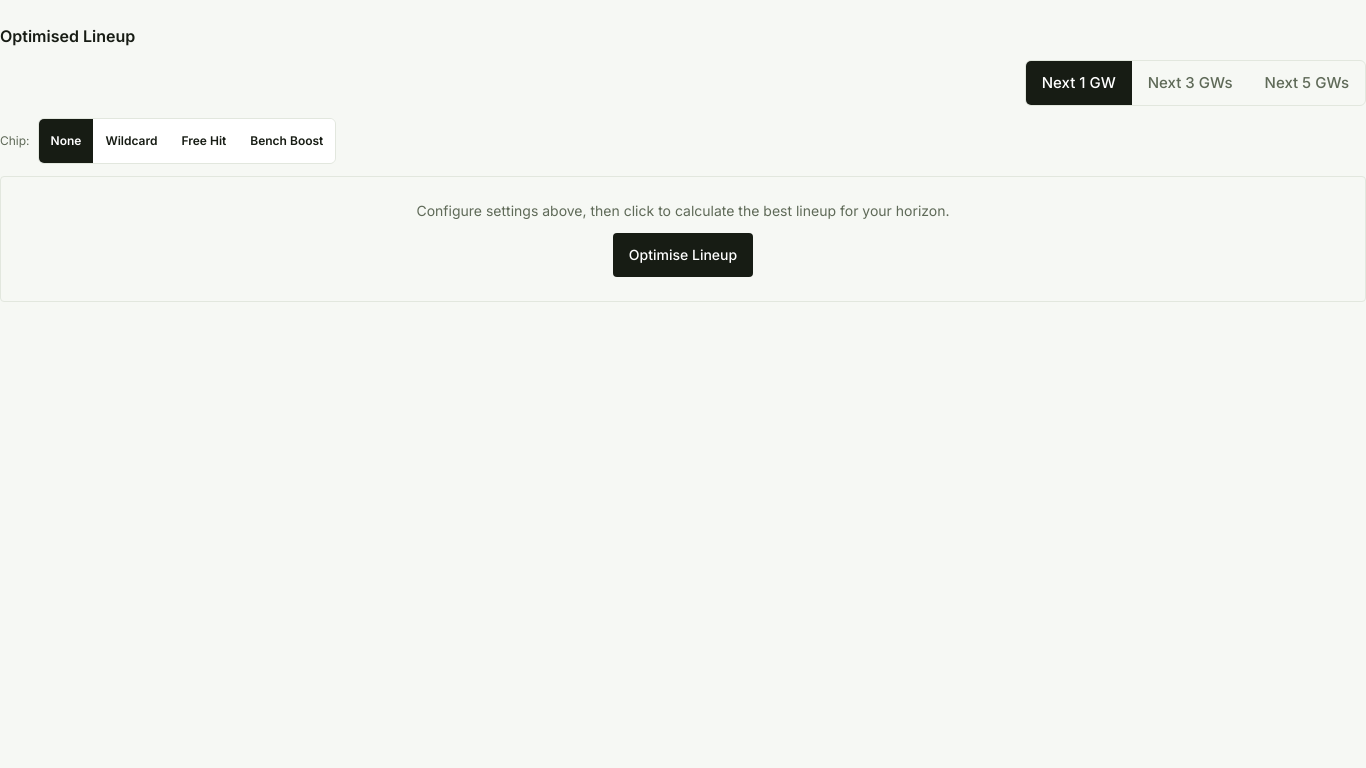
Test case: Phase 44: OptimiserPanel (comparison table) › CMP-01 comparison table renders › changed starter rows have border-l-2 + border-l-positive classes and a delta pill
What coordinates should you click on to do the following:
click the button with test id "optimise-button"
I would click on:
 (683, 255)
Its box is x1=613 y1=233 x2=753 y2=277.
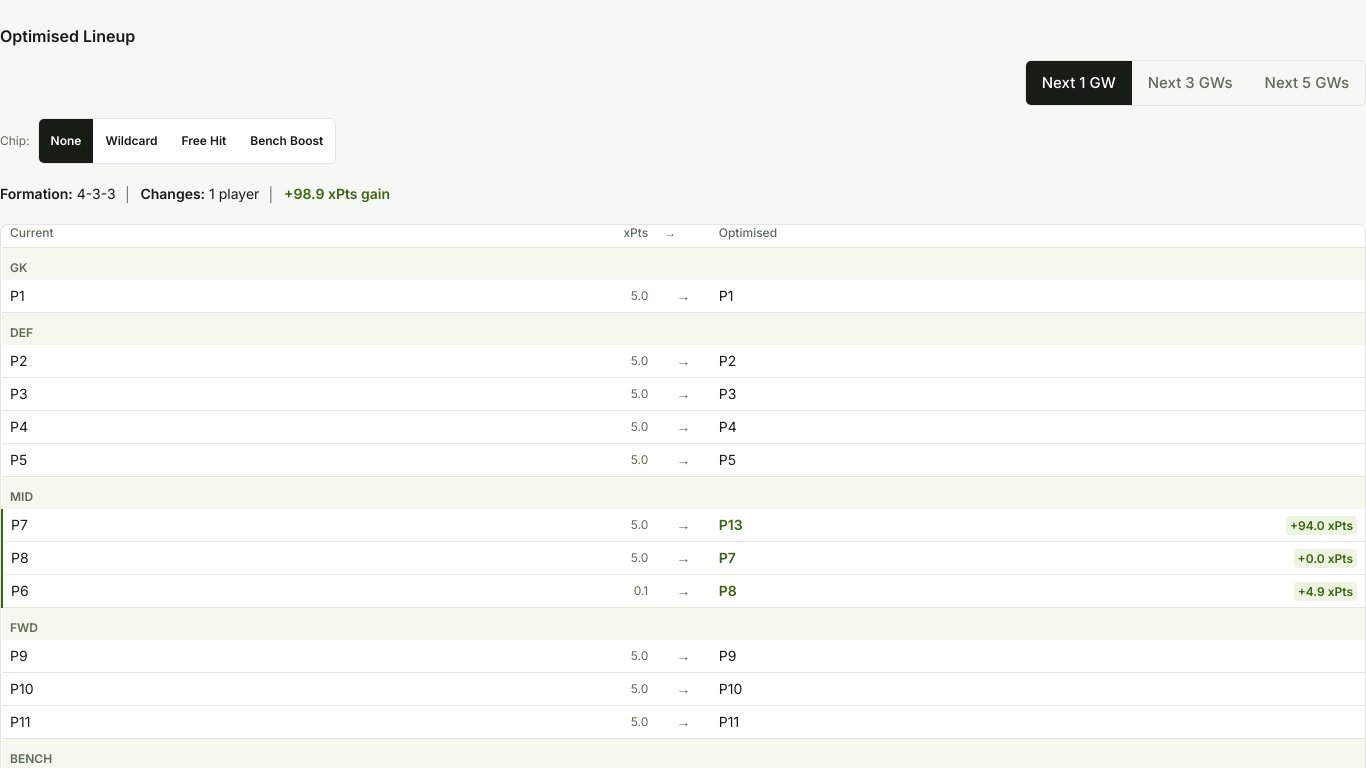
Now the row with test id "comparison-row-changed" showing "P7 5.0 → P13 +94.0 xPts" is shown, box x1=2 y1=509 x2=1365 y2=542
Now the text with test id "delta-pill" reads "+94.0 xPts", box x1=1286 y1=516 x2=1357 y2=535
